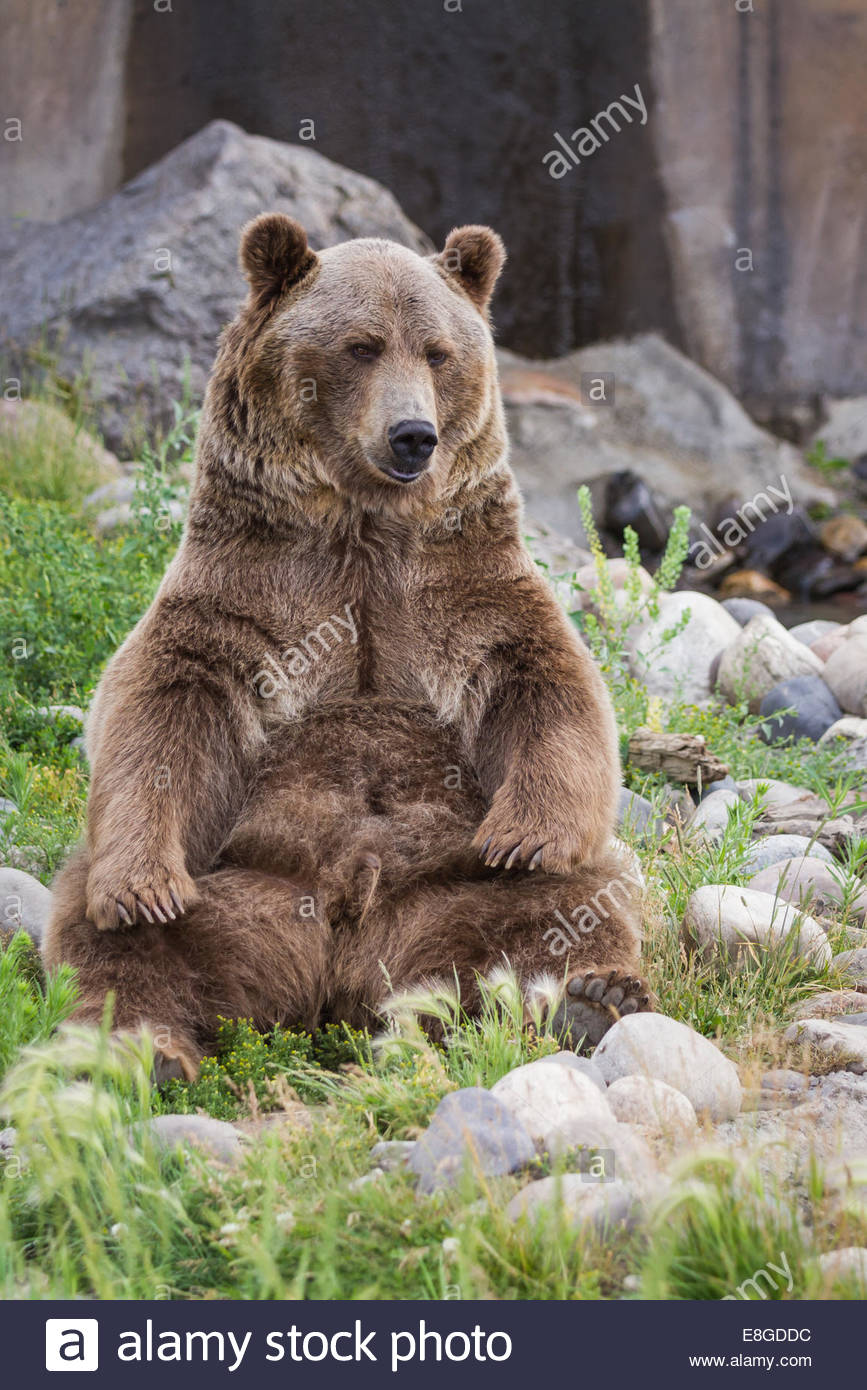bear: (33, 219, 667, 1086)
